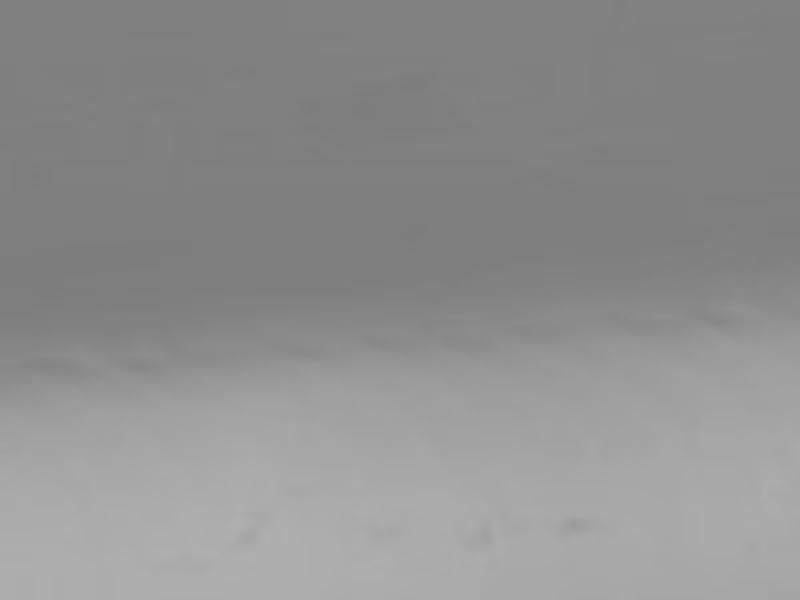defect: (558, 509, 590, 538), (231, 525, 261, 549), (468, 518, 491, 545)
